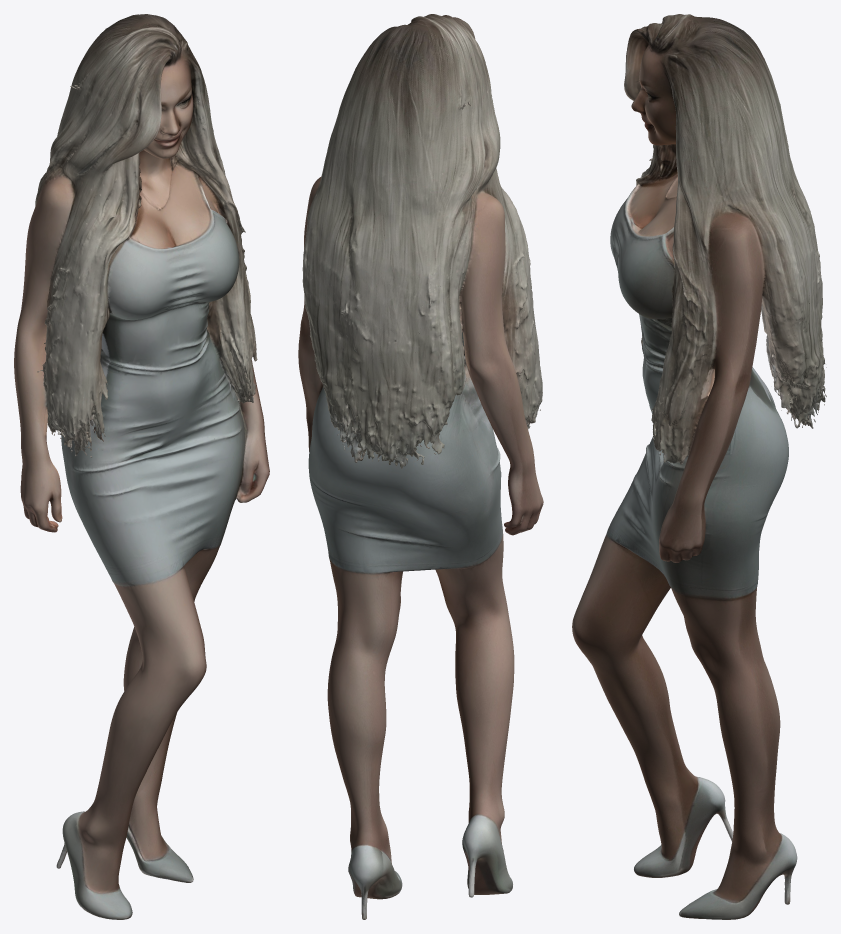
File: blonde-gray-dress.glb
The picture shows the model from 3 angles, left to right: view 1: azimuth 30°, elevation 25°; view 2: azimuth 150°, elevation 25°; view 3: azimuth 270°, elevation 25°; orthographic projection.
Parts seen in each view (by area): view 1: Object_5, Object_7, Object_8, Object_6; view 2: Object_6, Object_7, Object_5, Object_8; view 3: Object_5, Object_6, Object_7, Object_8.
Boxes of the visible parts, box(x1,y1,x2,y2) form: Object_5: box(14, 26, 269, 919); Object_7: box(14, 14, 265, 898); Object_8: box(49, 30, 263, 892); Object_6: box(24, 14, 192, 862); Object_6: box(302, 33, 502, 908); Object_7: box(300, 14, 543, 919); Object_5: box(298, 14, 542, 894); Object_8: box(441, 45, 541, 773); Object_5: box(572, 16, 784, 877); Object_6: box(687, 17, 826, 917); Object_7: box(623, 14, 796, 919); Object_8: box(601, 29, 680, 857).
Size of the model in its own units: 0.5357 by 1.9 by 0.4982.
Materials: 1 (1 with a texture image).
